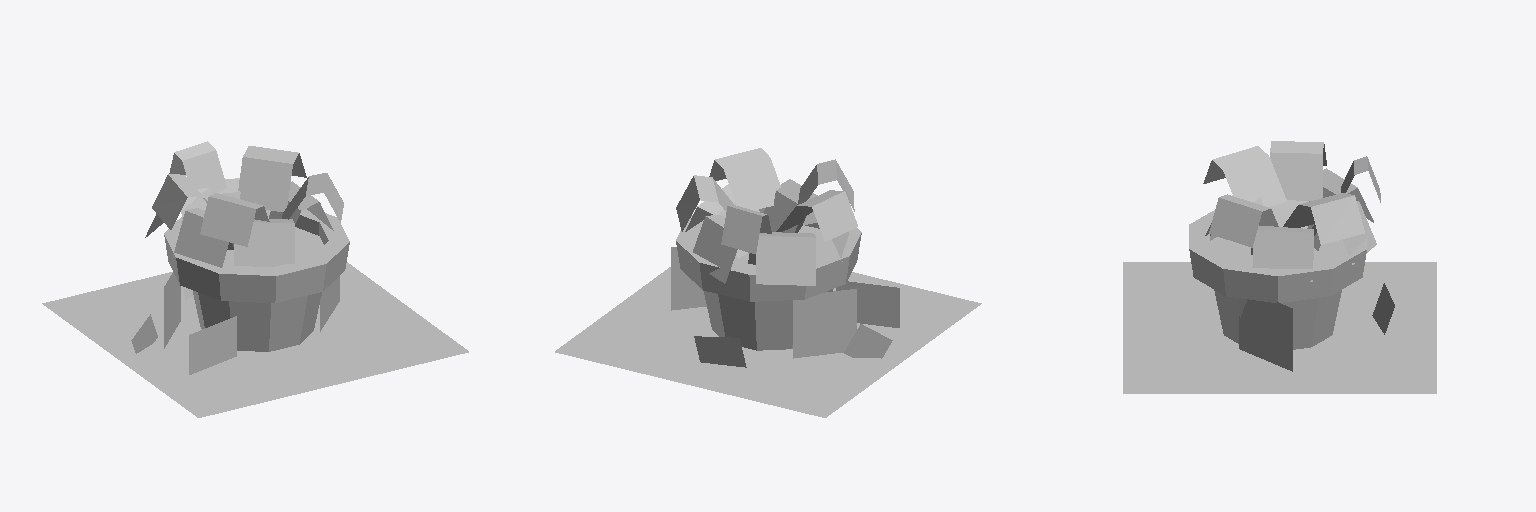
The model's file is hojasAlargadas2.obj.
3 views of the same model, side by side, from view 1: azimuth 30°, elevation 25°; view 2: azimuth 150°, elevation 25°; view 3: azimuth 270°, elevation 25° (orthographic).
Visible parts, largest first — view 1: Stylizedplants_model; view 2: Stylizedplants_model; view 3: Stylizedplants_model.
Boxes of the visible parts, <box> form: Stylizedplants_model: <box>42,141,468,417</box>; Stylizedplants_model: <box>555,148,981,417</box>; Stylizedplants_model: <box>1123,141,1436,393</box>.
Bounding box in the file's own units: 45.19 × 26.49 × 45.19.